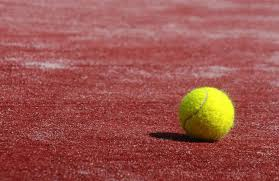tennis_ball: (178, 86, 234, 140)
